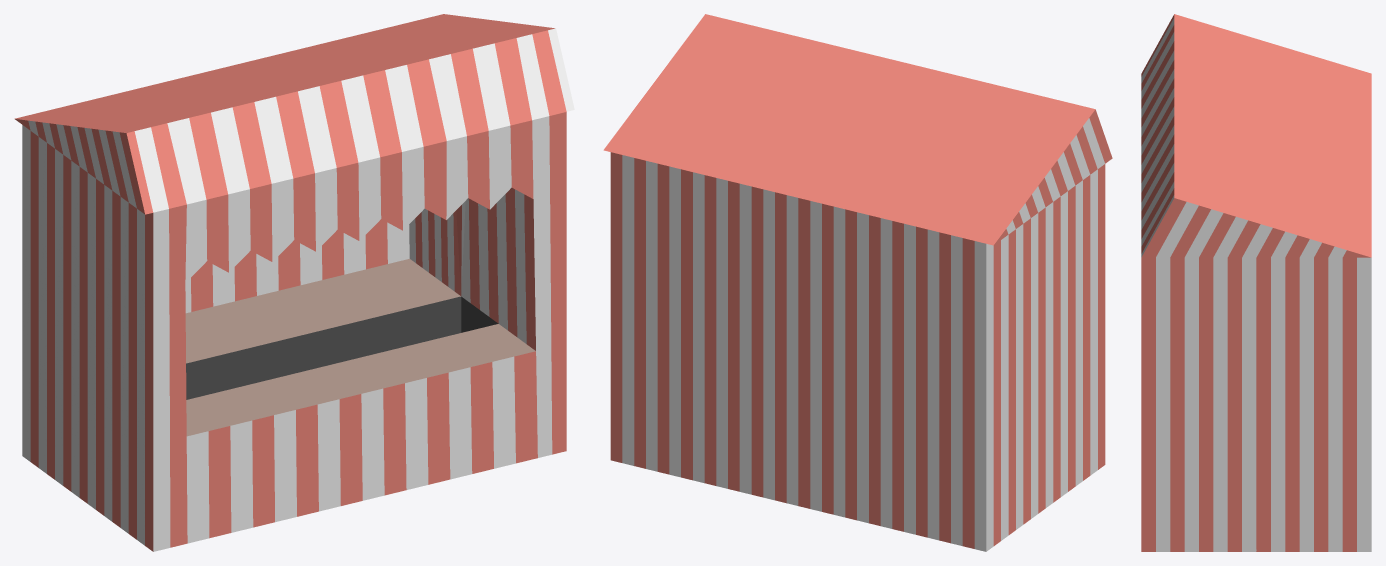
The model's file is booth.glb.
The picture shows the model from 3 angles, left to right: view 1: azimuth 30°, elevation 25°; view 2: azimuth 150°, elevation 25°; view 3: azimuth 270°, elevation 25°; orthographic projection. The views are drawn at different scales.
Visible parts, largest first — view 1: group762351938; view 2: group762351938; view 3: group762351938.
Part boxes in pixels (x1,y1,x2,y2): group762351938: (14,14,574,551); group762351938: (603,14,1112,551); group762351938: (1141,14,1371,551).
Size of what is drawn, in the model's own units: 0.53 by 0.48 by 0.28.
